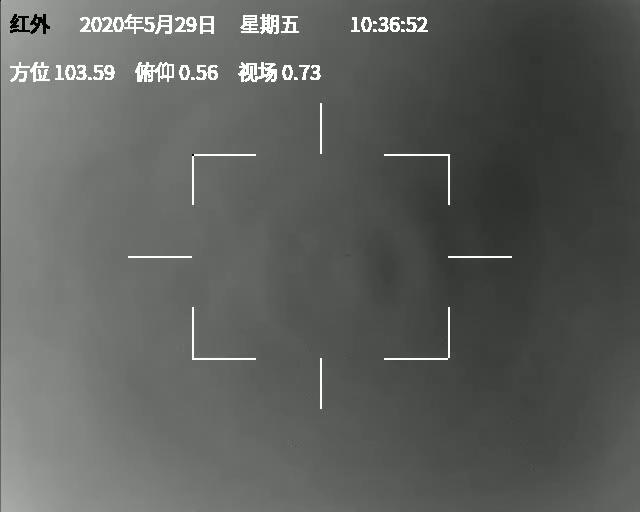uav: (343, 253, 352, 261)
